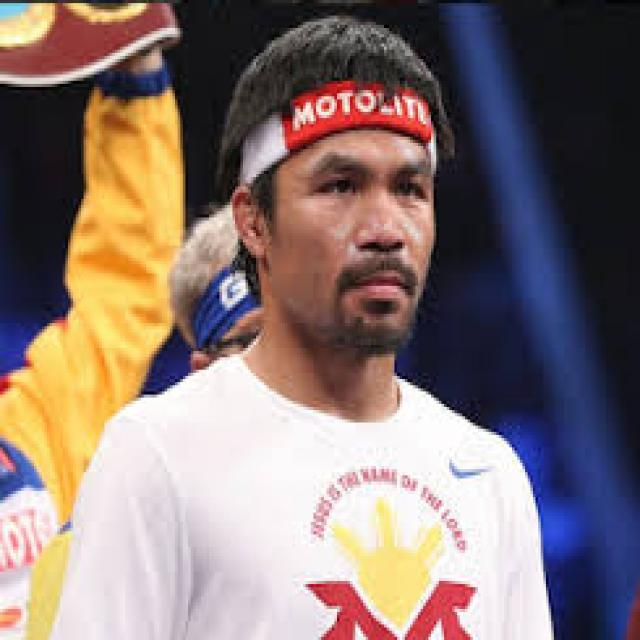Nike: (447, 453, 494, 486)
